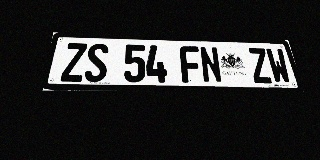4: (146, 45, 167, 83)
5: (124, 44, 145, 82)
F: (179, 46, 202, 83)
N: (199, 46, 223, 83)
S: (84, 43, 109, 82)
W: (265, 48, 292, 84)
Z: (60, 43, 87, 82), (247, 48, 273, 83)
